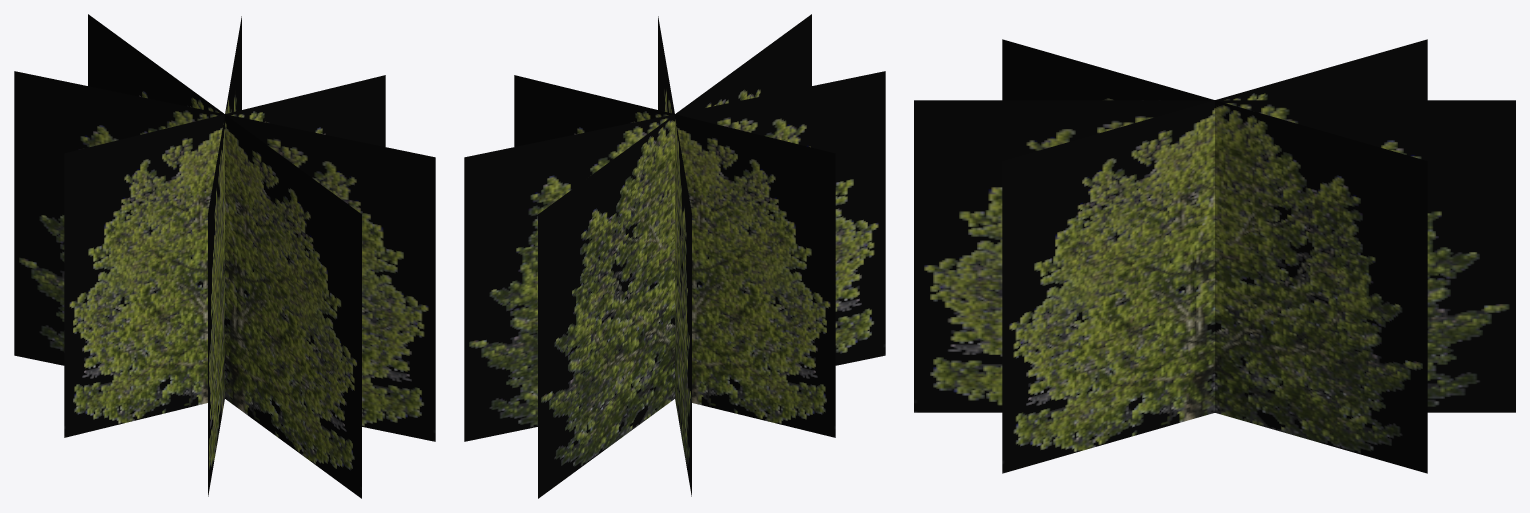
The model's file is Bush2.fbx.
3 renders of one model, left to right at view 1: azimuth 30°, elevation 25°; view 2: azimuth 150°, elevation 25°; view 3: azimuth 270°, elevation 25°, orthographic. The views are drawn at different scales.
Parts seen in each view (by area): view 1: Bush; view 2: Bush; view 3: Bush.
Boxes of the visible parts, x1=… form: Bush: x1=14, y1=14, x2=435, y2=498; Bush: x1=464, y1=14, x2=885, y2=498; Bush: x1=914, y1=39, x2=1515, y2=473.
Bounding box in the file's own units: 1.35 × 1.99 × 1.14.
1 material, 1 textured.
